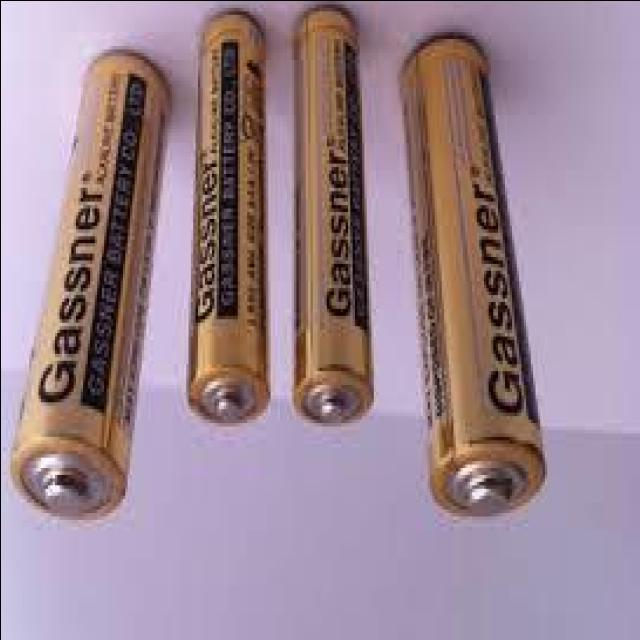-Hazardous waste - battery-: (11, 49, 170, 516), (396, 33, 544, 512), (291, 2, 371, 424), (187, 13, 268, 425)
